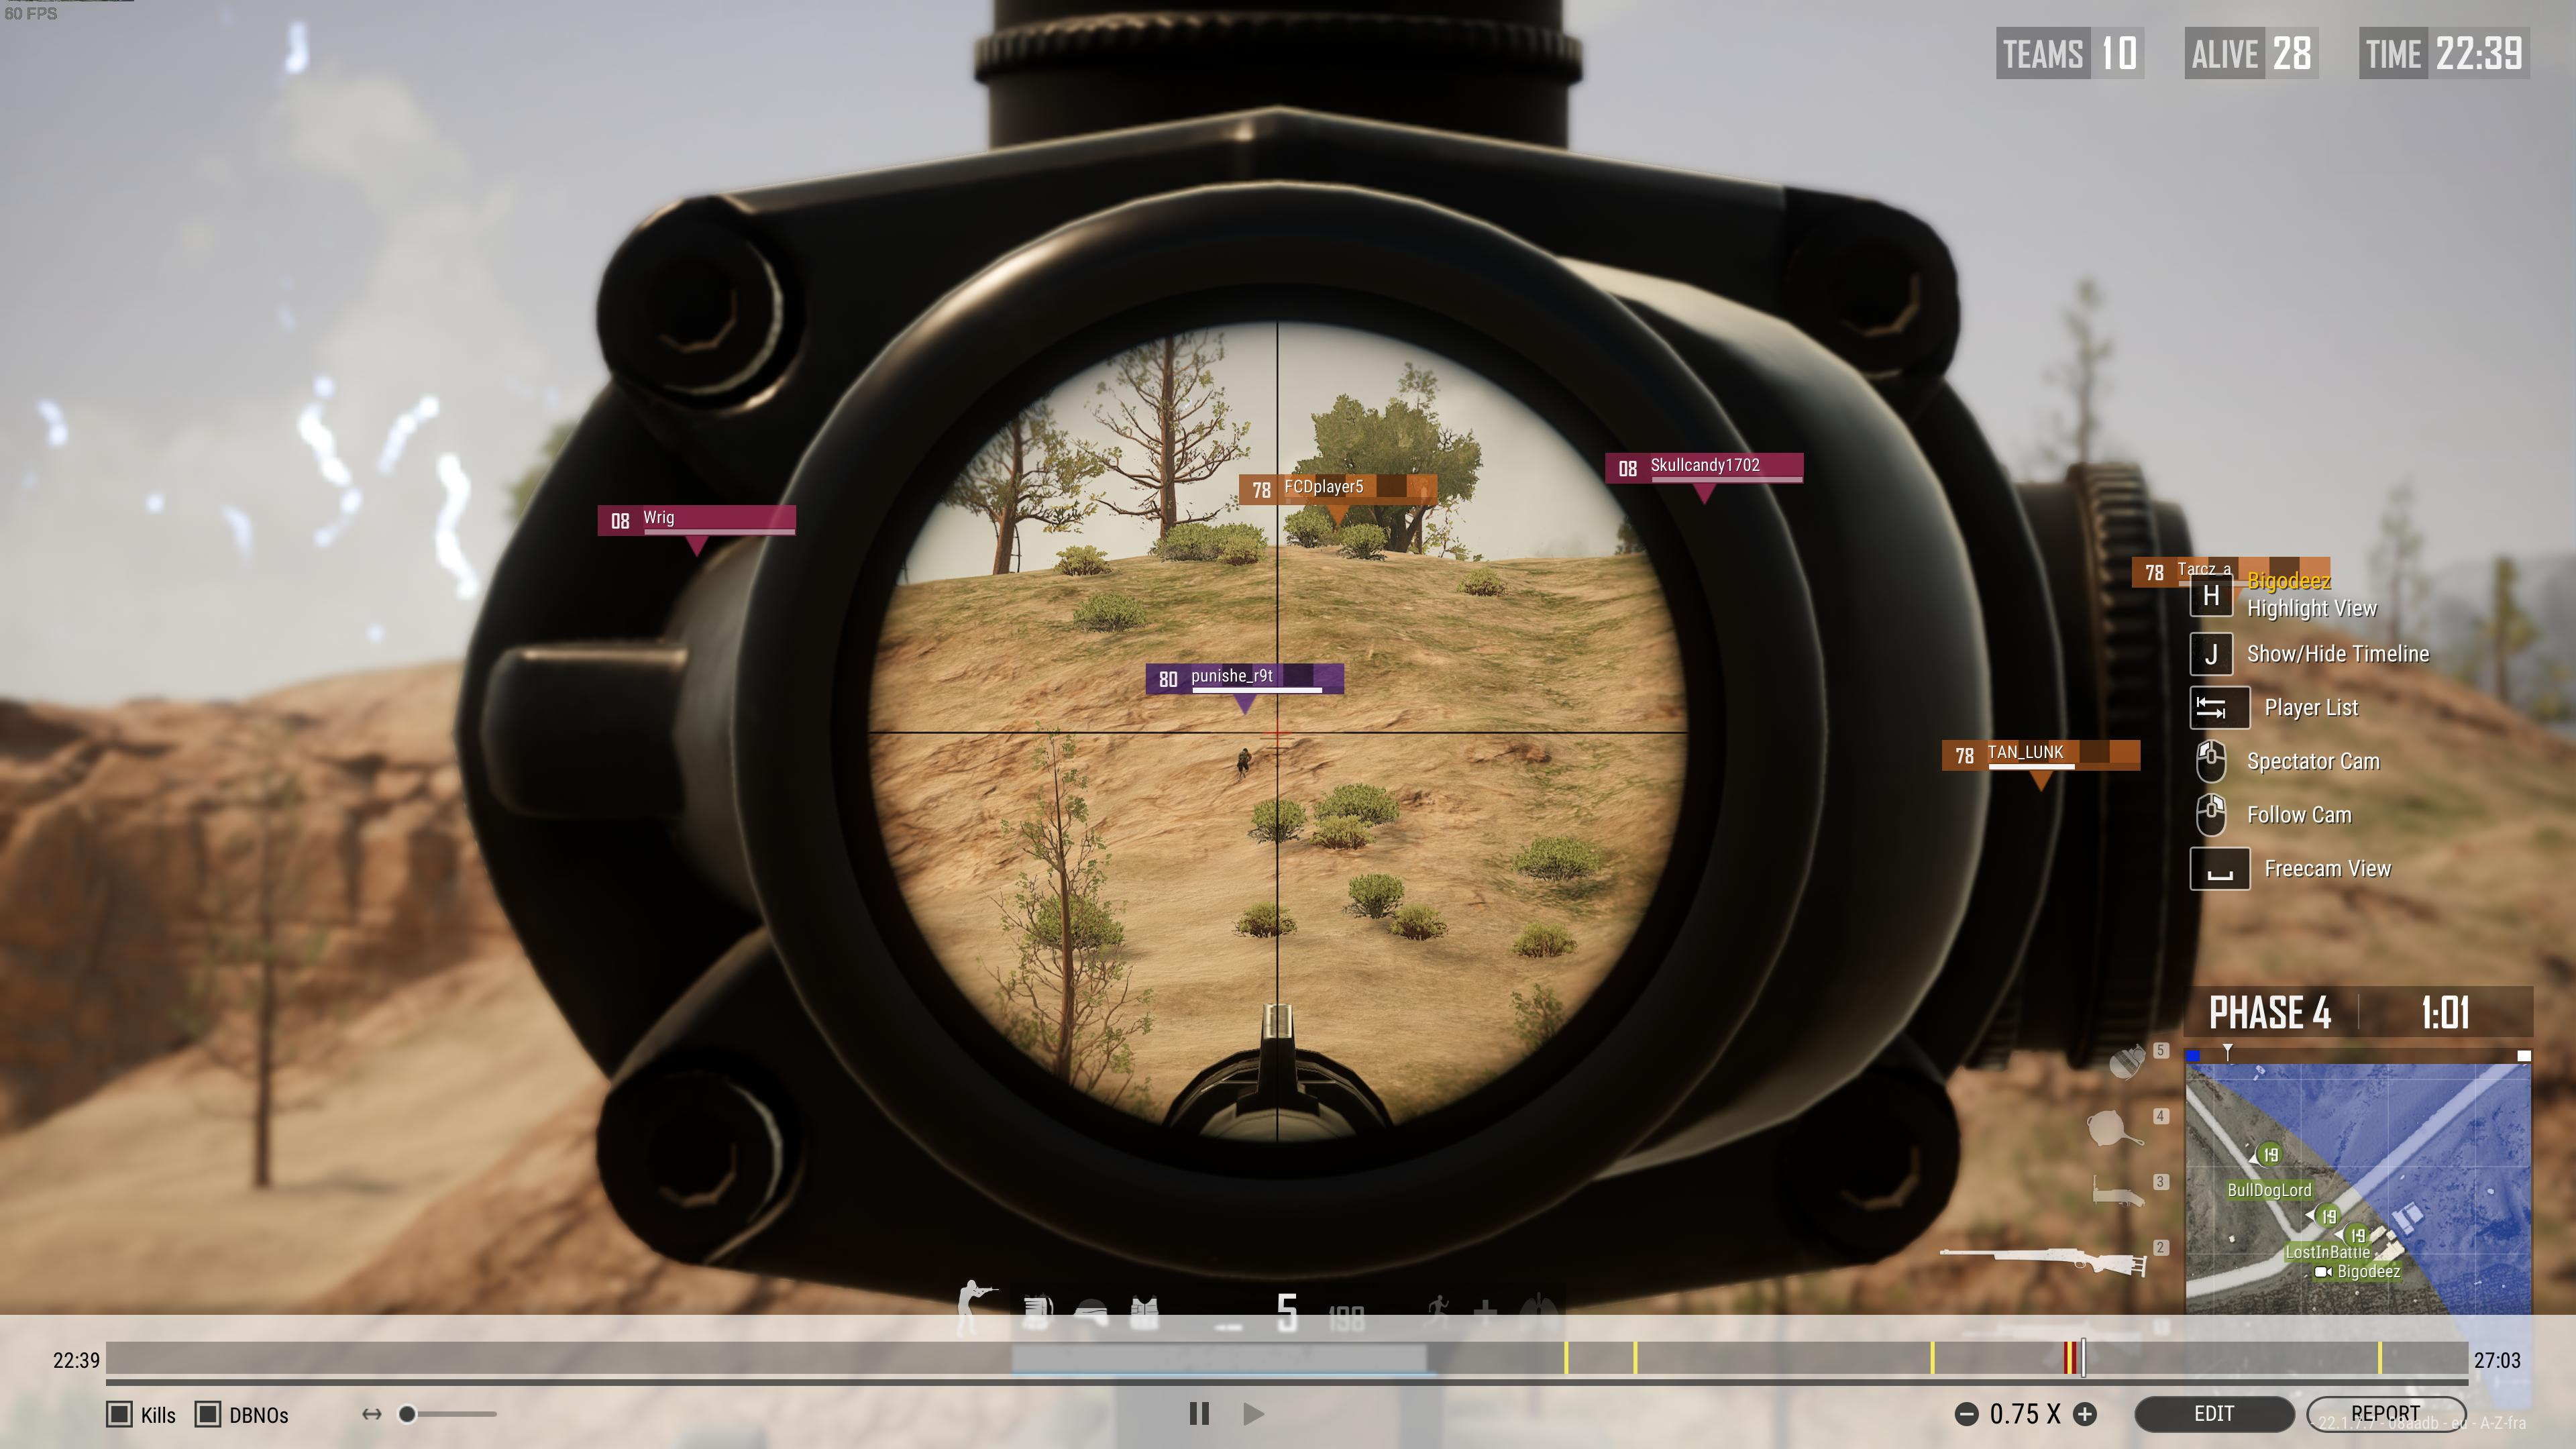enemy: (1237, 747, 1253, 780)
enemy_head: (1242, 747, 1247, 752)
